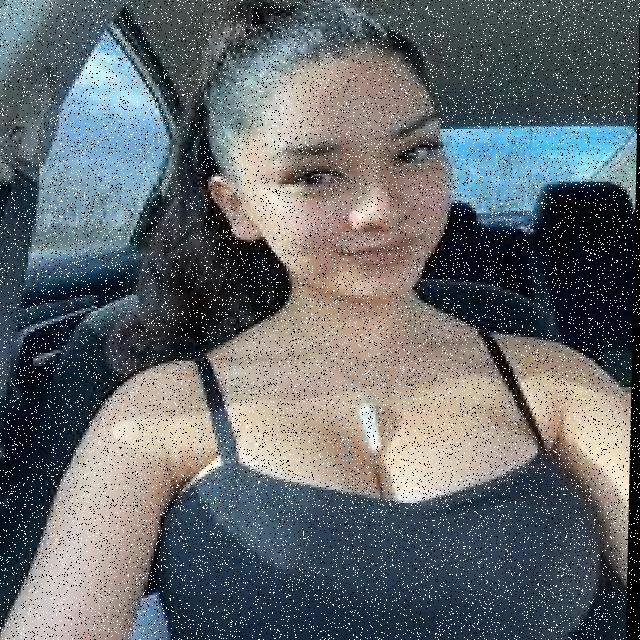noSeatbelt: (42, 232, 636, 640)
